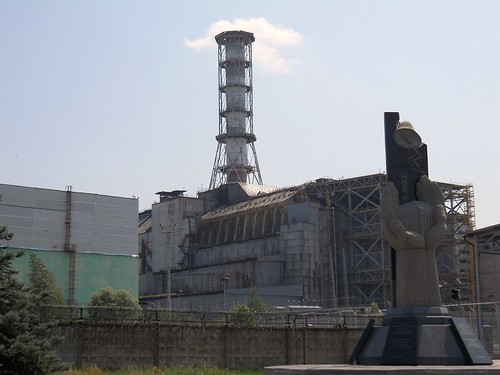building: (144, 193, 484, 332), (1, 187, 162, 316), (205, 32, 260, 190)
sky: (3, 1, 495, 178)
